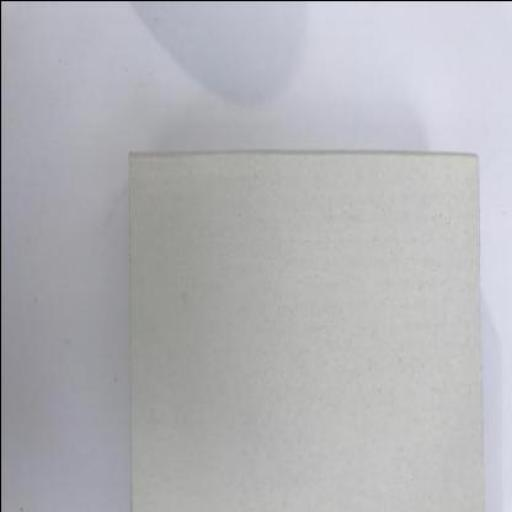cardboard: (130, 158, 488, 510)
paper: (129, 150, 485, 511)
